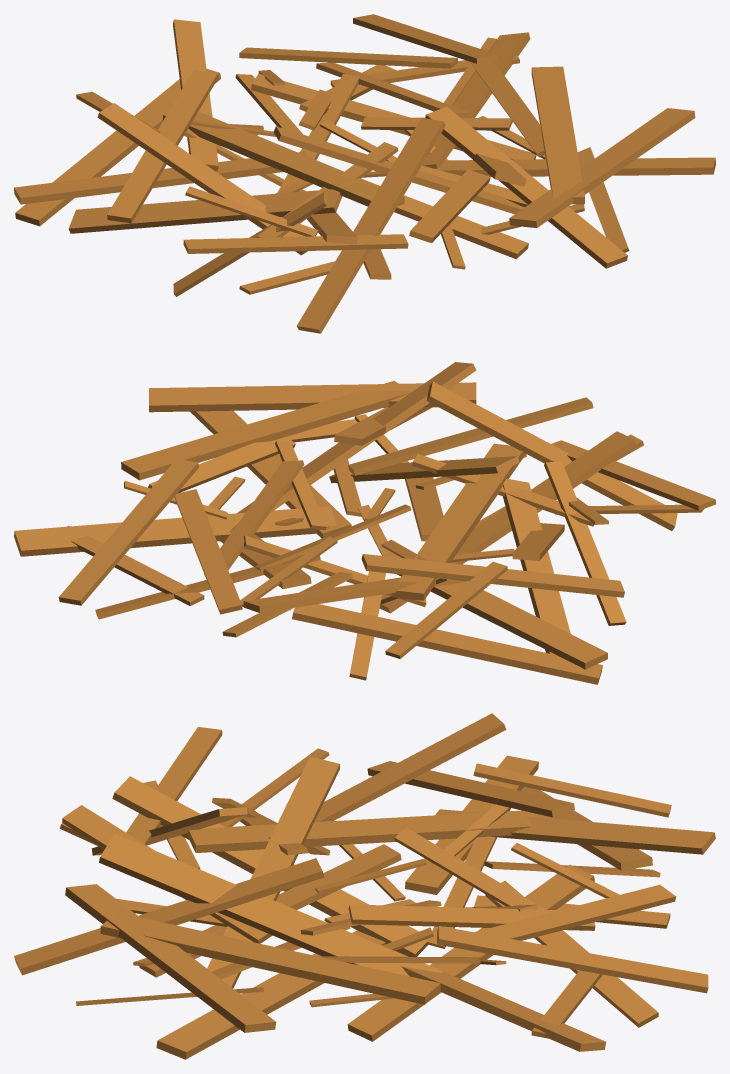
The model's file is Cheese.fbx.
3 renders of one model, top to bottom at view 1: azimuth 30°, elevation 25°; view 2: azimuth 150°, elevation 25°; view 3: azimuth 270°, elevation 25°, orthographic. The views are drawn at different scales.
Visible parts, largest first — view 1: Cheese; view 2: Cheese; view 3: Cheese.
Boxes of the visible parts, bbox=[...] form: Cheese: bbox=[14, 14, 715, 333]; Cheese: bbox=[14, 362, 715, 684]; Cheese: bbox=[14, 713, 715, 1059].
Bounding box in the file's own units: 0.1489 × 0.0383 × 0.1427.
